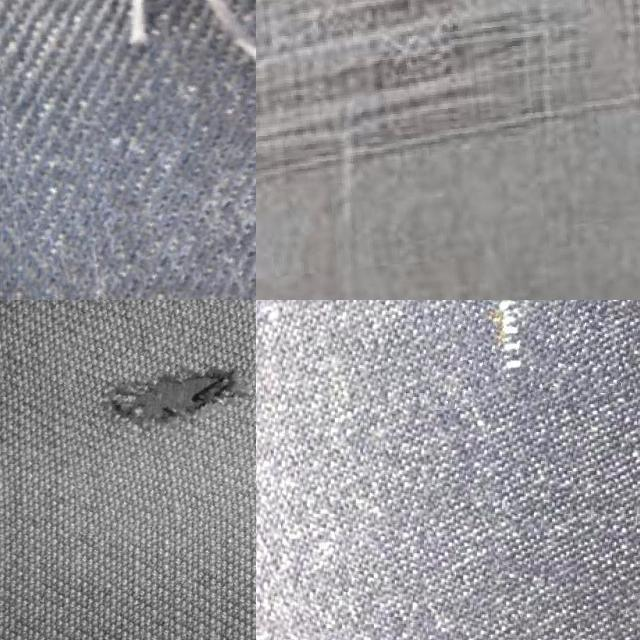other: (60, 300, 256, 528)
stains: (256, 0, 640, 300), (417, 300, 616, 404)
